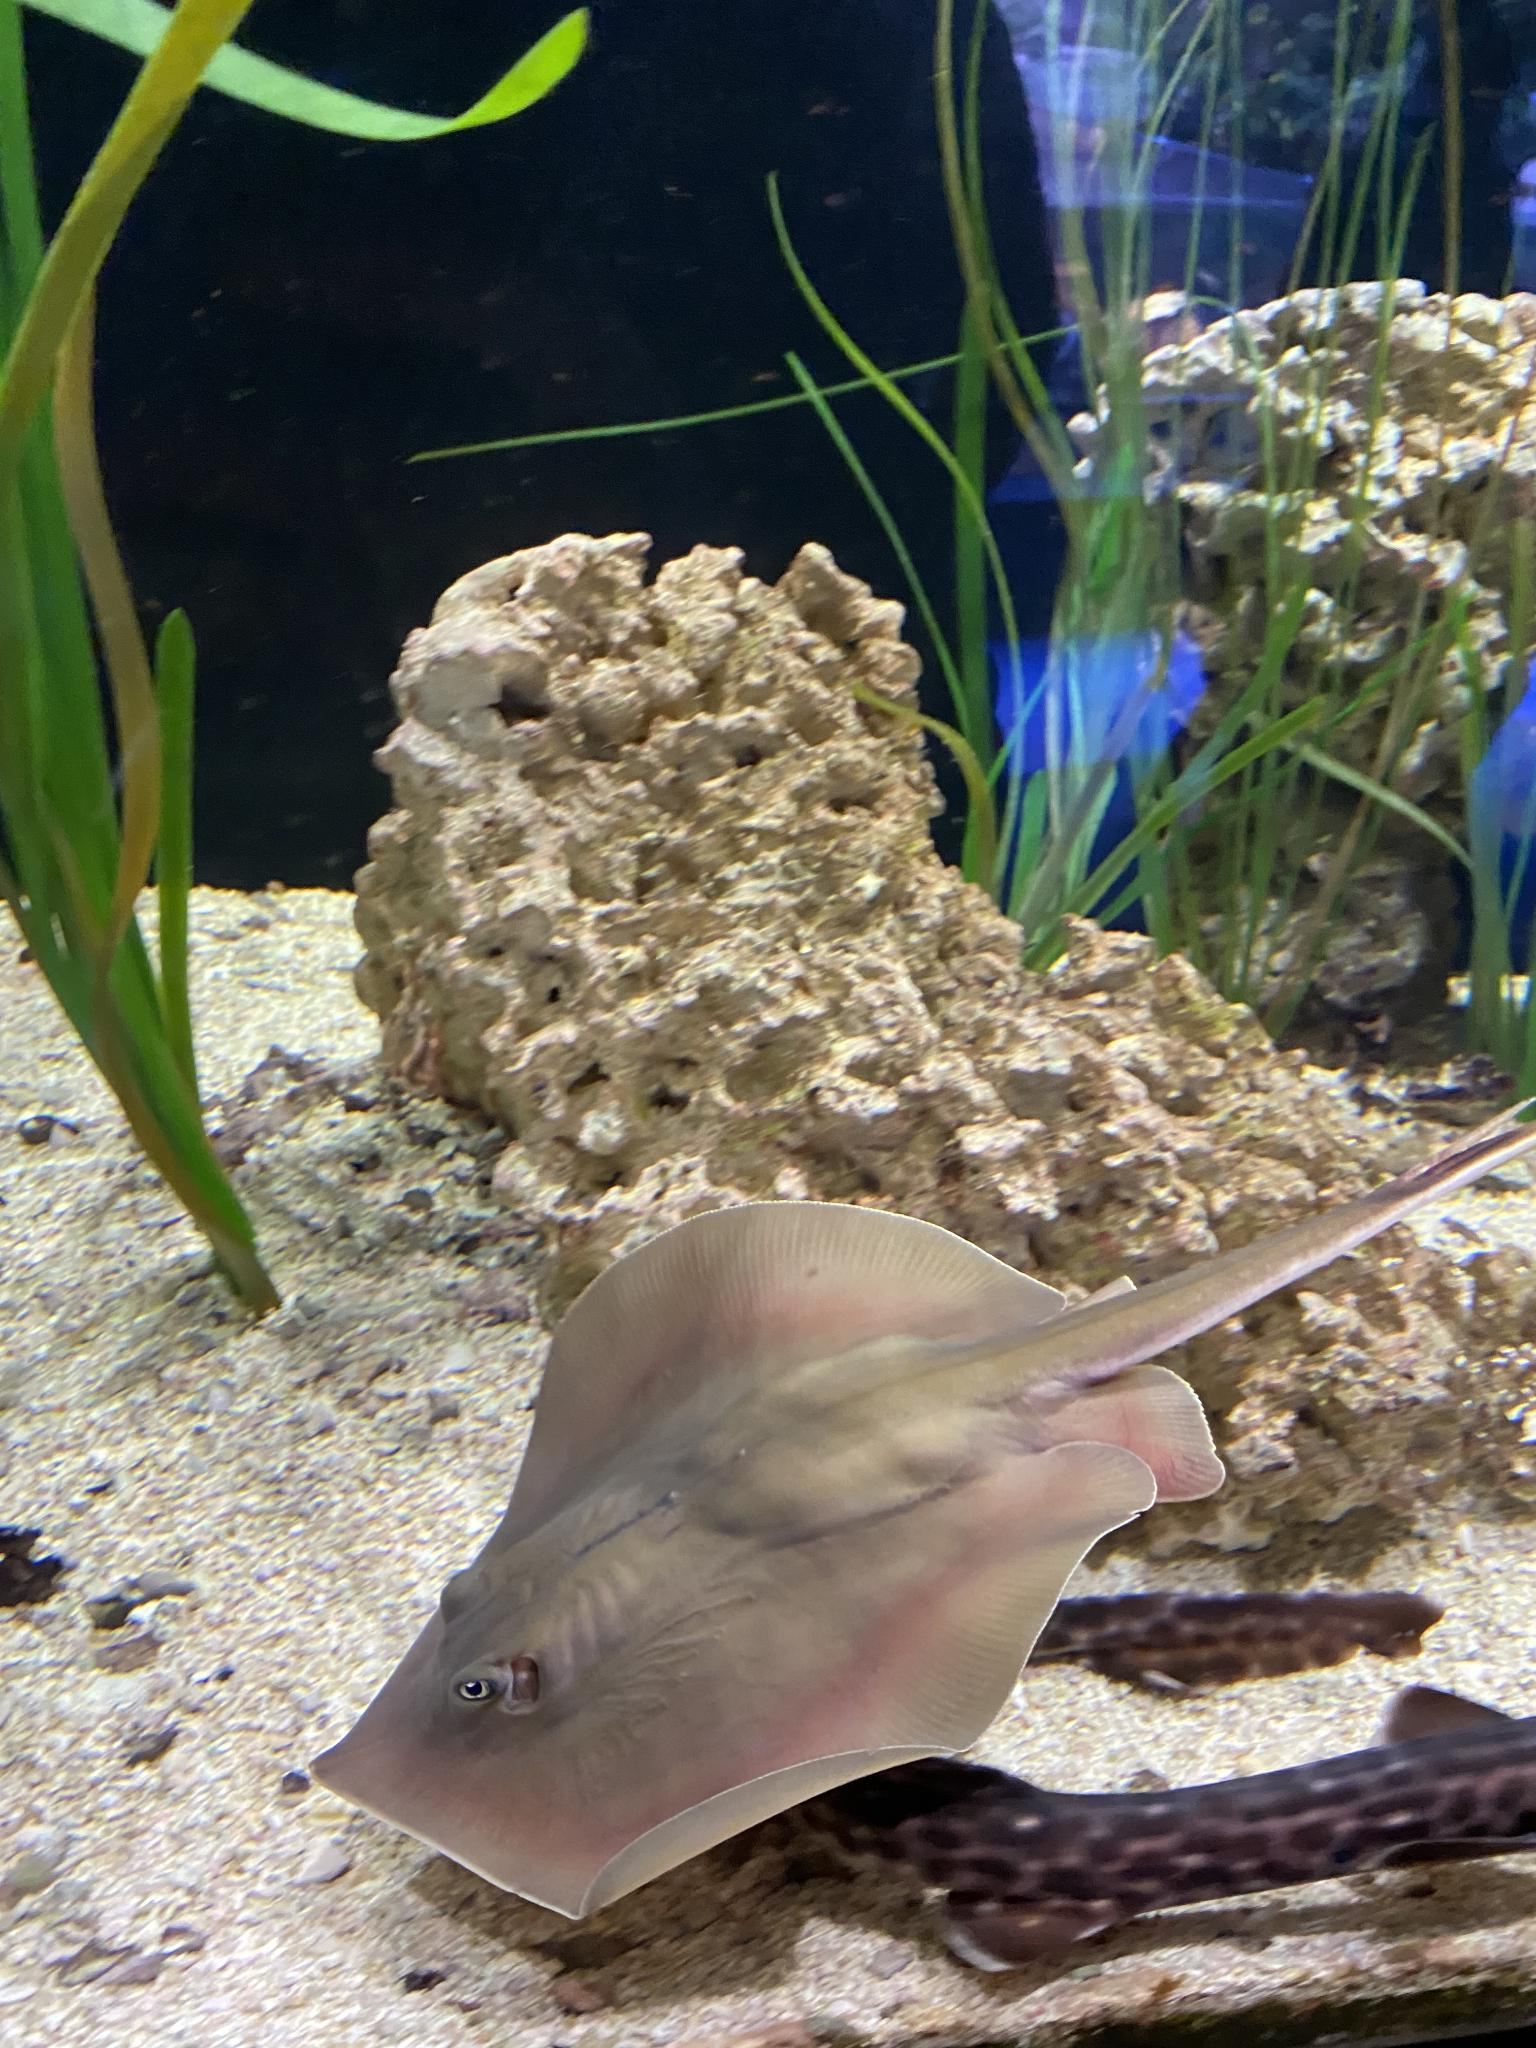shark: (731, 1593, 1536, 1972)
stingray: (310, 1201, 1225, 1919)
